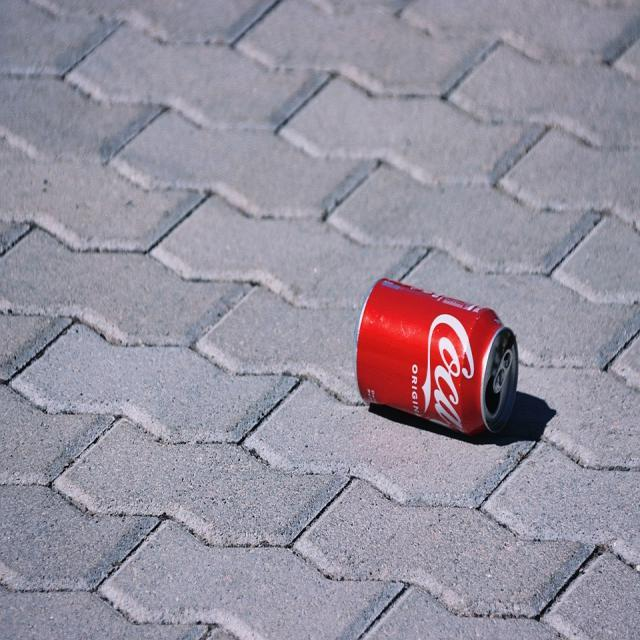kimloai: (358, 279, 518, 435)
